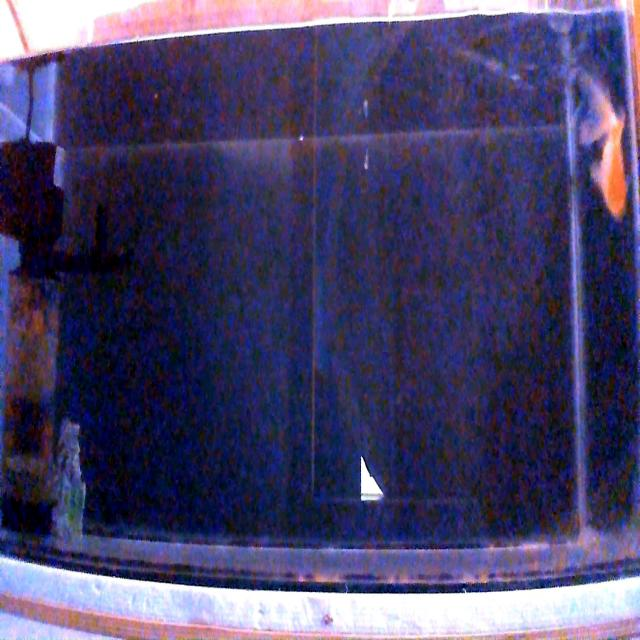fish: (589, 113, 628, 216)
